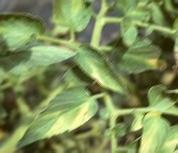Tomato mold leaf: (16, 86, 101, 150), (76, 44, 133, 101), (111, 35, 174, 75), (0, 14, 50, 52), (53, 0, 93, 36), (134, 117, 171, 153)
